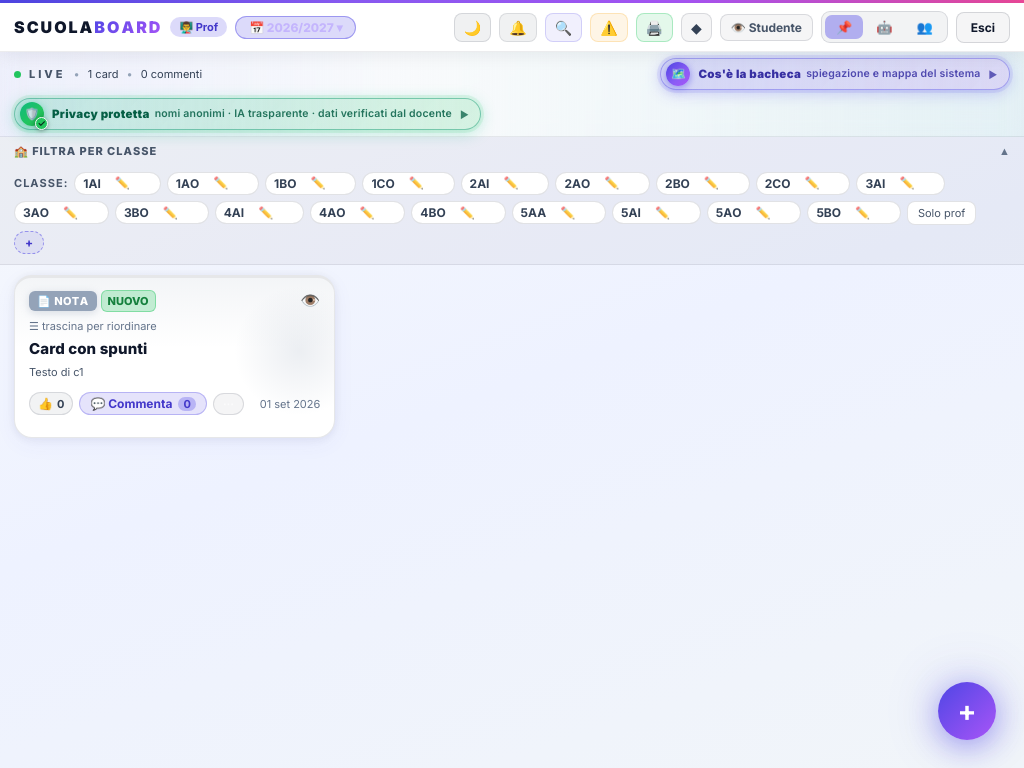
Pannello AI: spunti per riflettere (domande_stimolo) › il prof vede gli spunti generati dall'AI, con l'indicazione che sono visibili agli studenti
This screenshot has width=1024, height=768.
Click the text "Card con spunti" at (88, 348), box [29, 338, 147, 358]
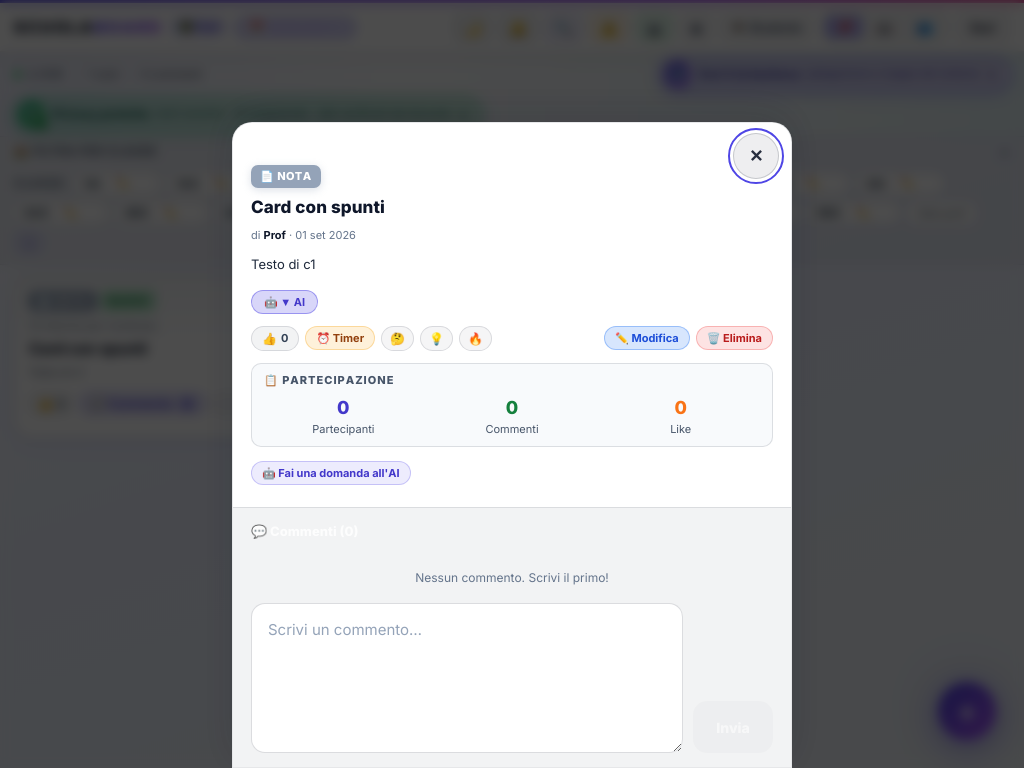
// Apre il pannello AI del prof (bottone "🤖 ▼ AI")
Click the button "🤖 ▼ AI" at (285, 302), box [251, 290, 318, 314]
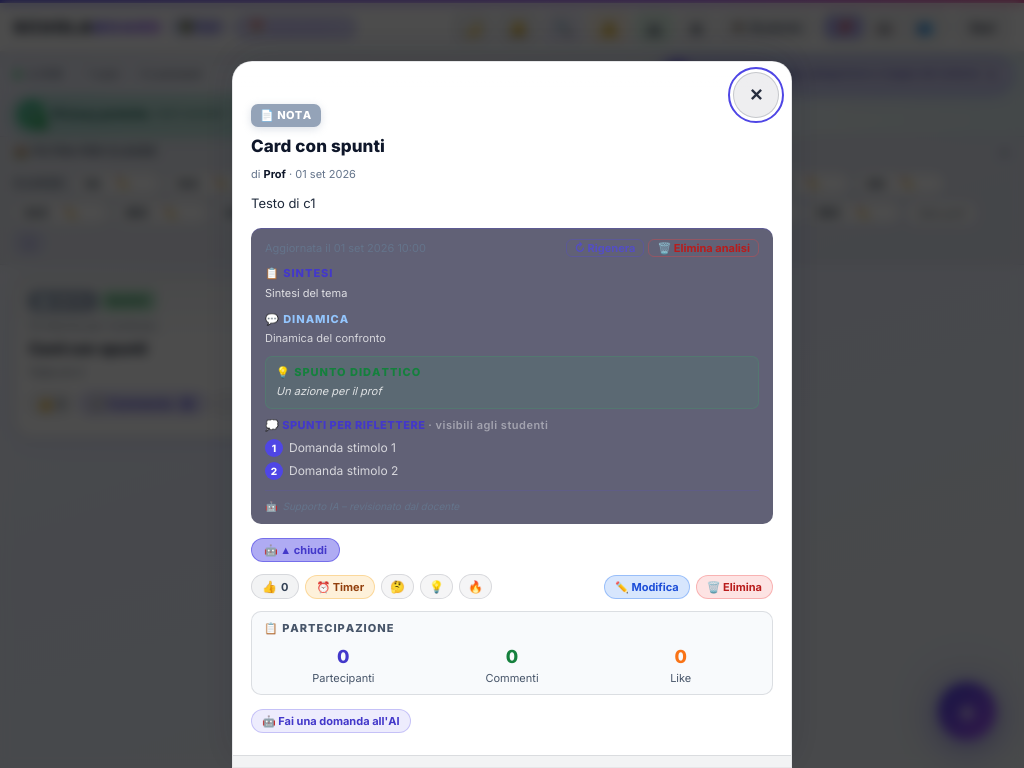
Expected: the button "↻ Rigenera" is shown, [566, 240, 644, 258]
Expected: the text "Domanda stimolo 1" is shown, [289, 439, 396, 457]
Expected: the text "Domanda stimolo 2" is shown, [289, 462, 398, 480]
